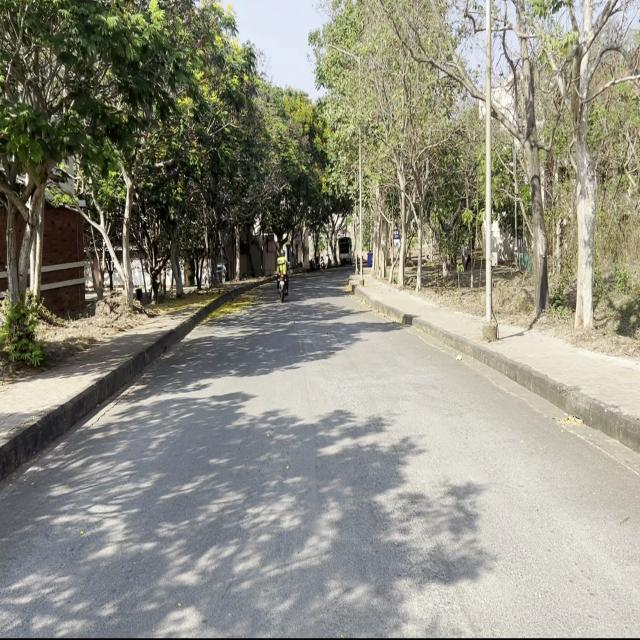Object: (275, 251, 292, 309), (338, 234, 356, 270)
Road: (3, 274, 636, 633)
